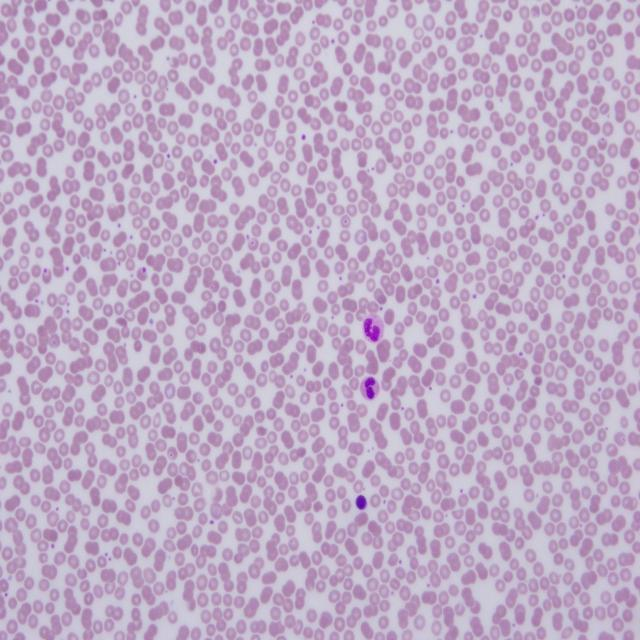cell: (362, 314, 384, 343), (360, 376, 380, 400)
